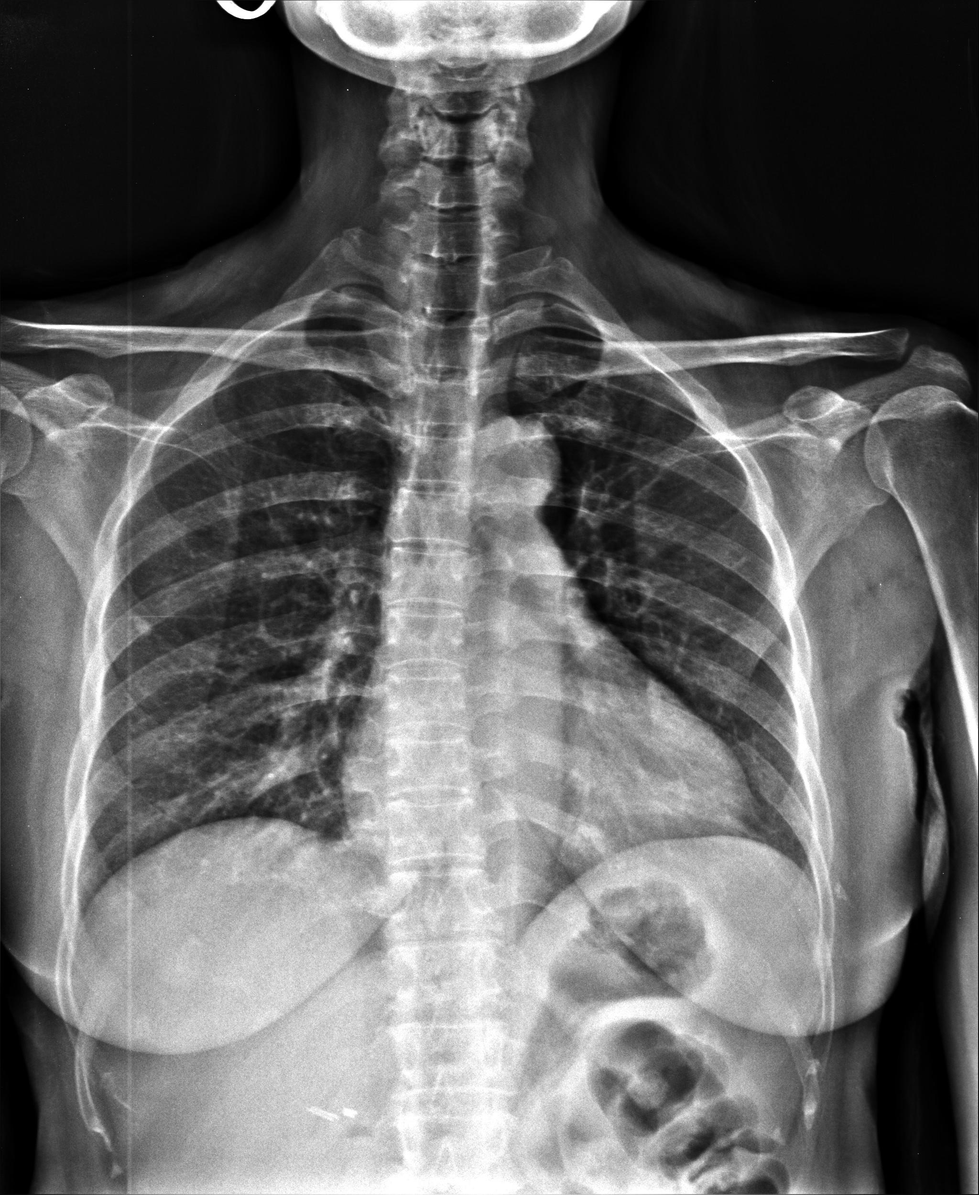Aortic enlargement: (453, 411, 563, 521)
Cardiomegaly: (338, 724, 754, 880)
